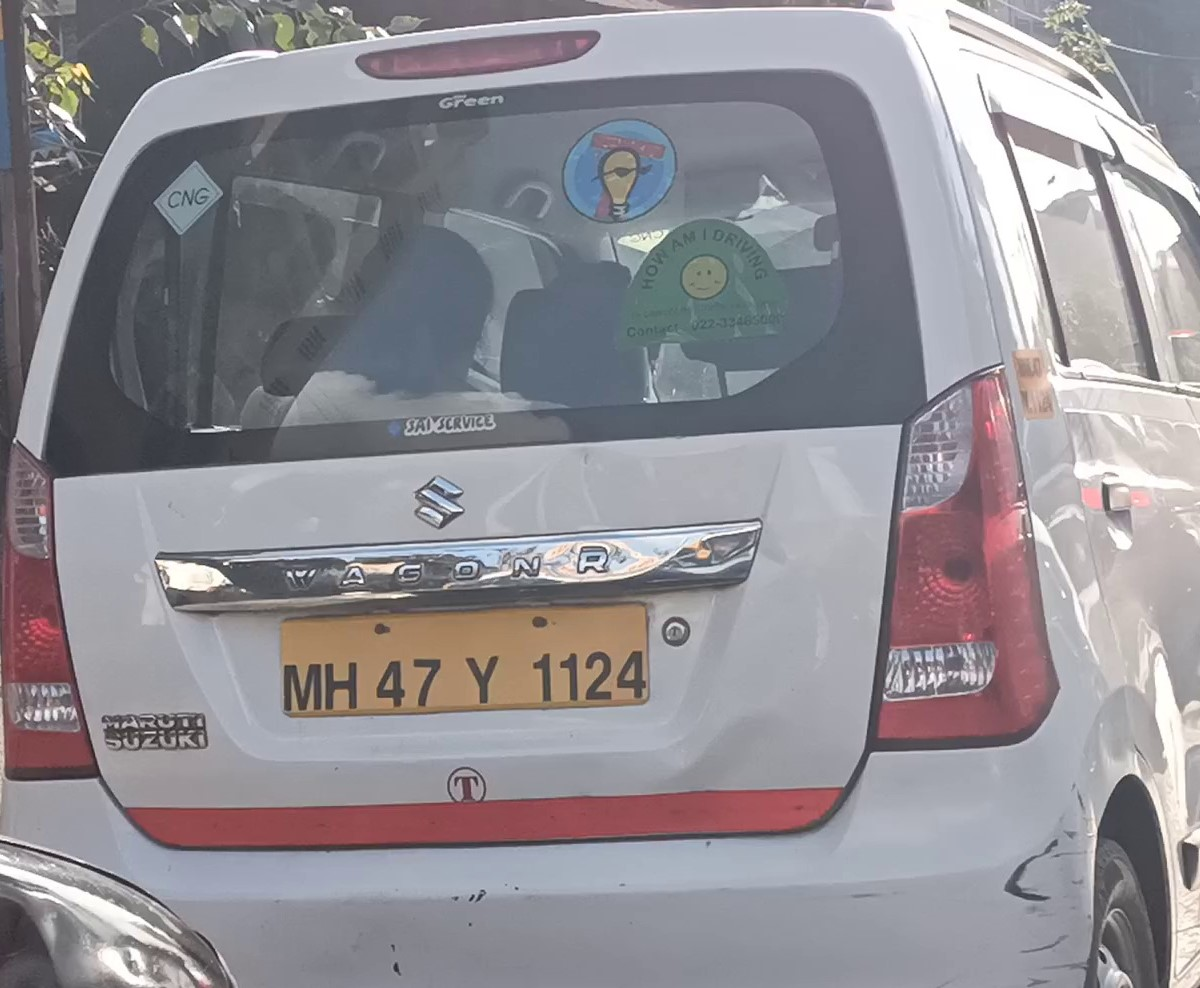MH47Y1124: (280, 604, 650, 707)
